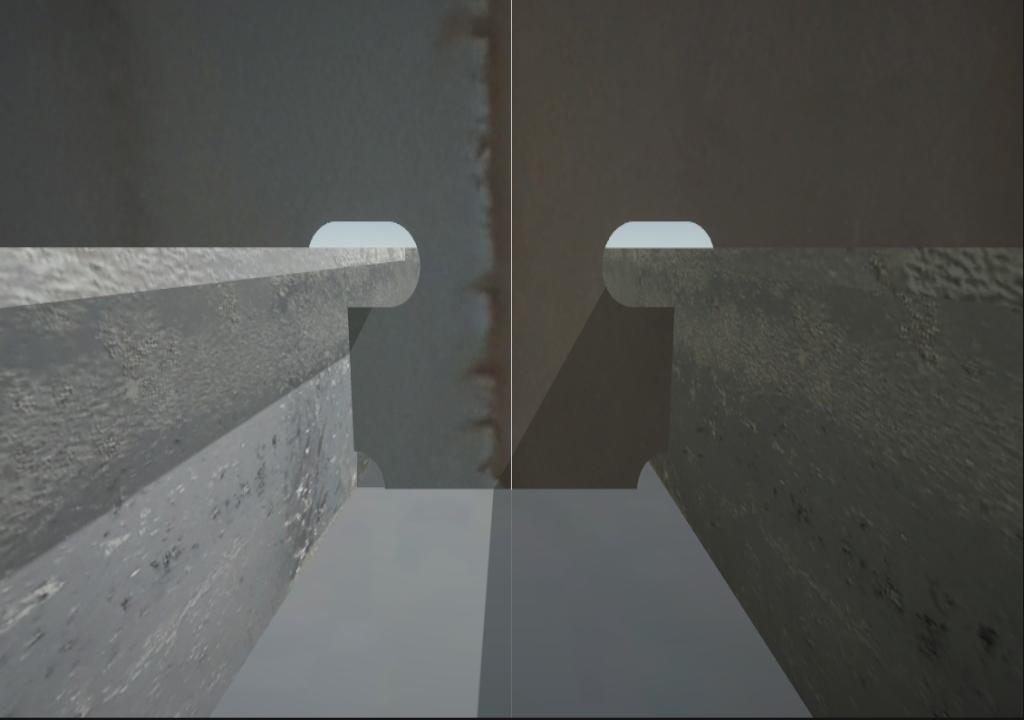fillet_hole: (636, 454, 667, 489), (355, 452, 384, 489)
fillet_yong_jeop_jang: (379, 479, 639, 500)
longi_yong_jeop_jang: (339, 294, 362, 459), (657, 301, 681, 457)
